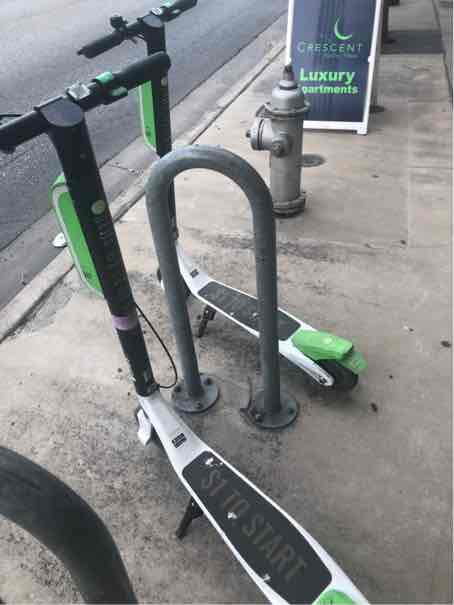scooter: (29, 38, 382, 527), (79, 0, 371, 392)
